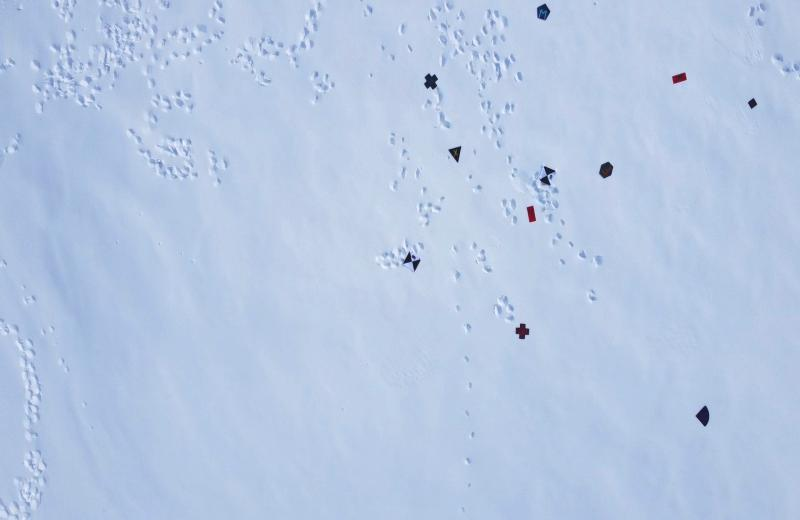Cross: (422, 72, 440, 91), (514, 322, 530, 340)
Hexagon: (598, 161, 615, 180)
Pentagon: (535, 2, 551, 22)
Quarter Circle: (694, 404, 712, 429)
Rectangle: (525, 205, 537, 223), (672, 72, 686, 85)
Square: (747, 98, 758, 110)
Triangle: (447, 145, 465, 164)
